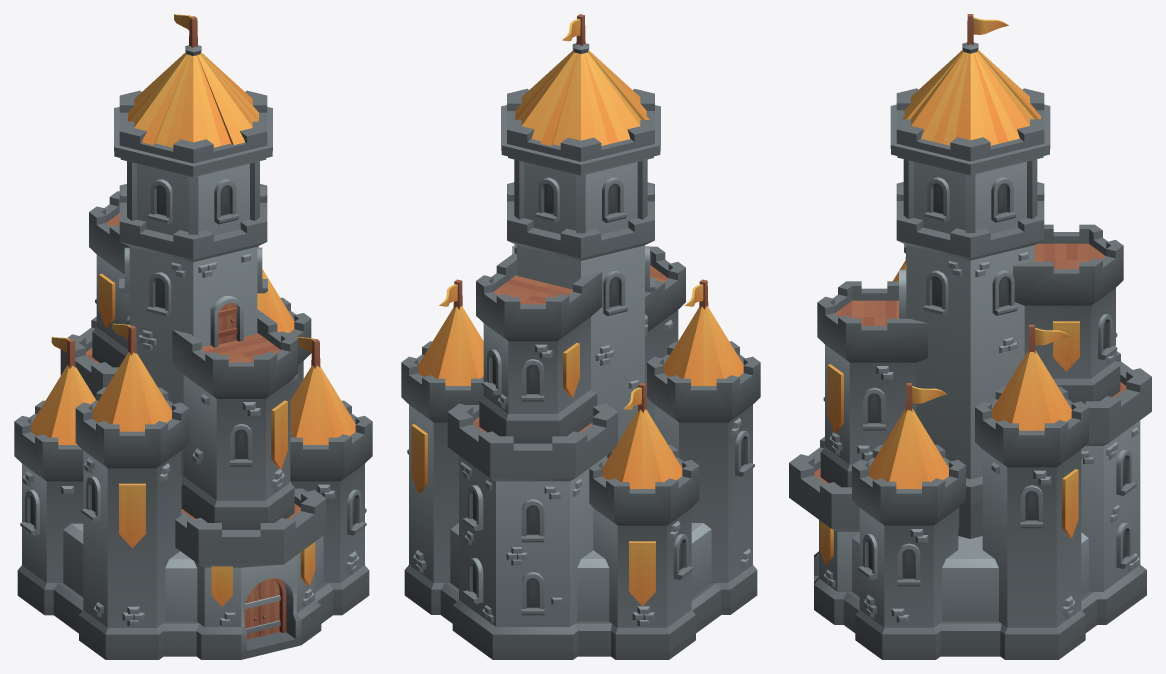
File: castle_yellow.glb
The picture shows the model from 3 angles, left to right: view 1: azimuth 30°, elevation 25°; view 2: azimuth 150°, elevation 25°; view 3: azimuth 270°, elevation 25°; orthographic projection.
Parts seen in each view (by area): view 1: castle_yellow; view 2: castle_yellow; view 3: castle_yellow.
Boxes of the visible parts, x1,y1,x2,y2 form: castle_yellow: (14, 14, 372, 659); castle_yellow: (401, 14, 760, 659); castle_yellow: (789, 14, 1151, 659).
Size of the model in its own units: 0.9877 by 1.99 by 1.13.
1 material, 1 textured.
